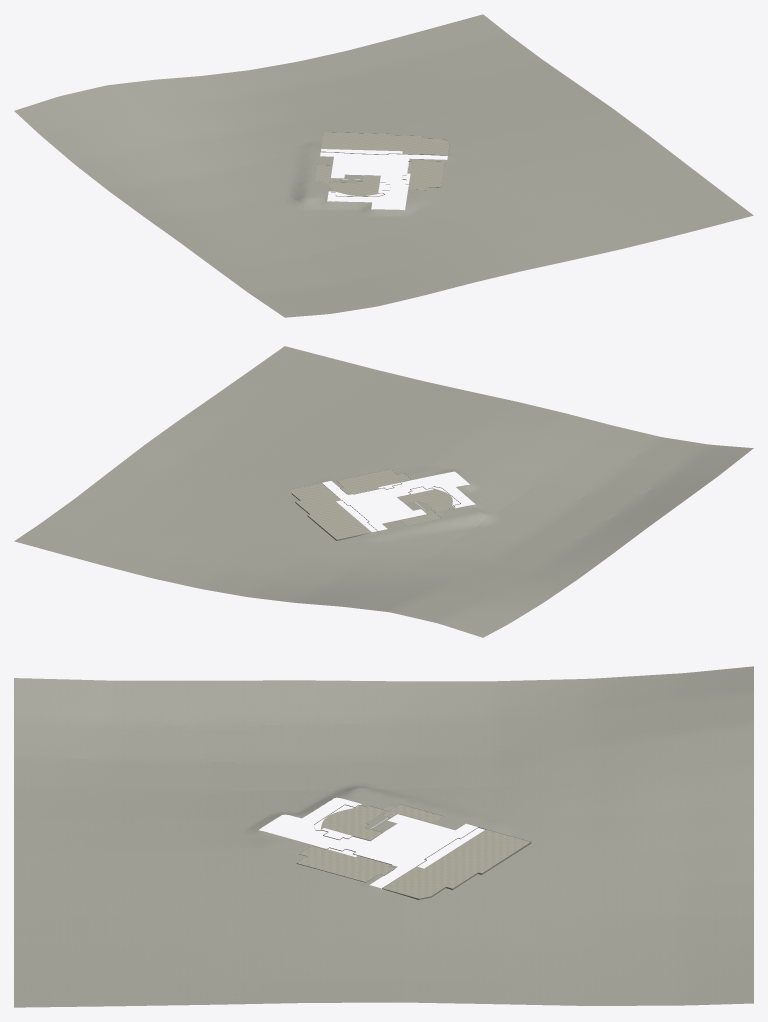
3 renders of one model, top to bottom at view 1: azimuth 30°, elevation 25°; view 2: azimuth 150°, elevation 25°; view 3: azimuth 270°, elevation 25°, orthographic. The views are drawn at different scales.
Parts seen in each view (by area): view 1: snjc-base, snjc-paving; view 2: snjc-base, snjc-paving; view 3: snjc-base, snjc-paving, mainLecture__exteriorFoundationClosure.
Boxes of the visible parts, x1,y1,x2,y2 form: snjc-base: (14,14,753,317); snjc-paving: (315,132,449,195); snjc-base: (14,346,753,637); snjc-paving: (291,469,453,539); snjc-base: (14,666,753,1007); snjc-paving: (297,804,530,898); mainLecture__exteriorFoundationClosure: (296,804,531,899).
Size of what is drawn, in the model's own units: 240 by 13.37 by 240.
5 materials, 4 textured.
